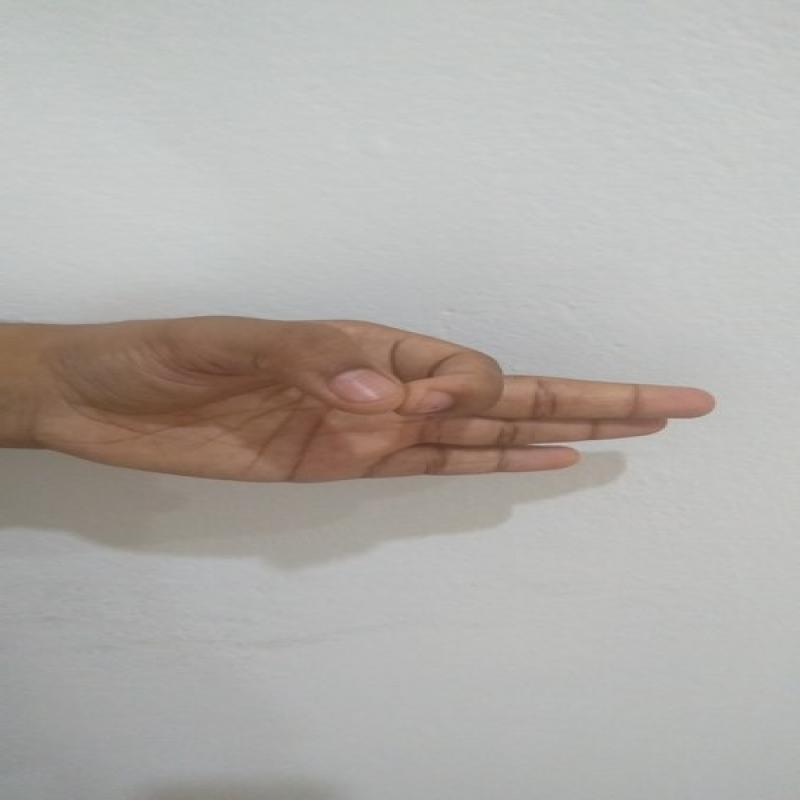Mudraakhyam: (51, 295, 726, 506)
